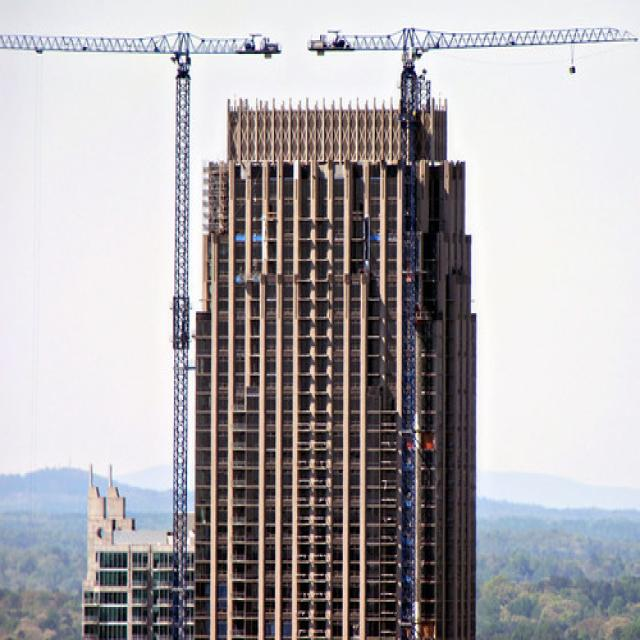building: (190, 89, 482, 634)
